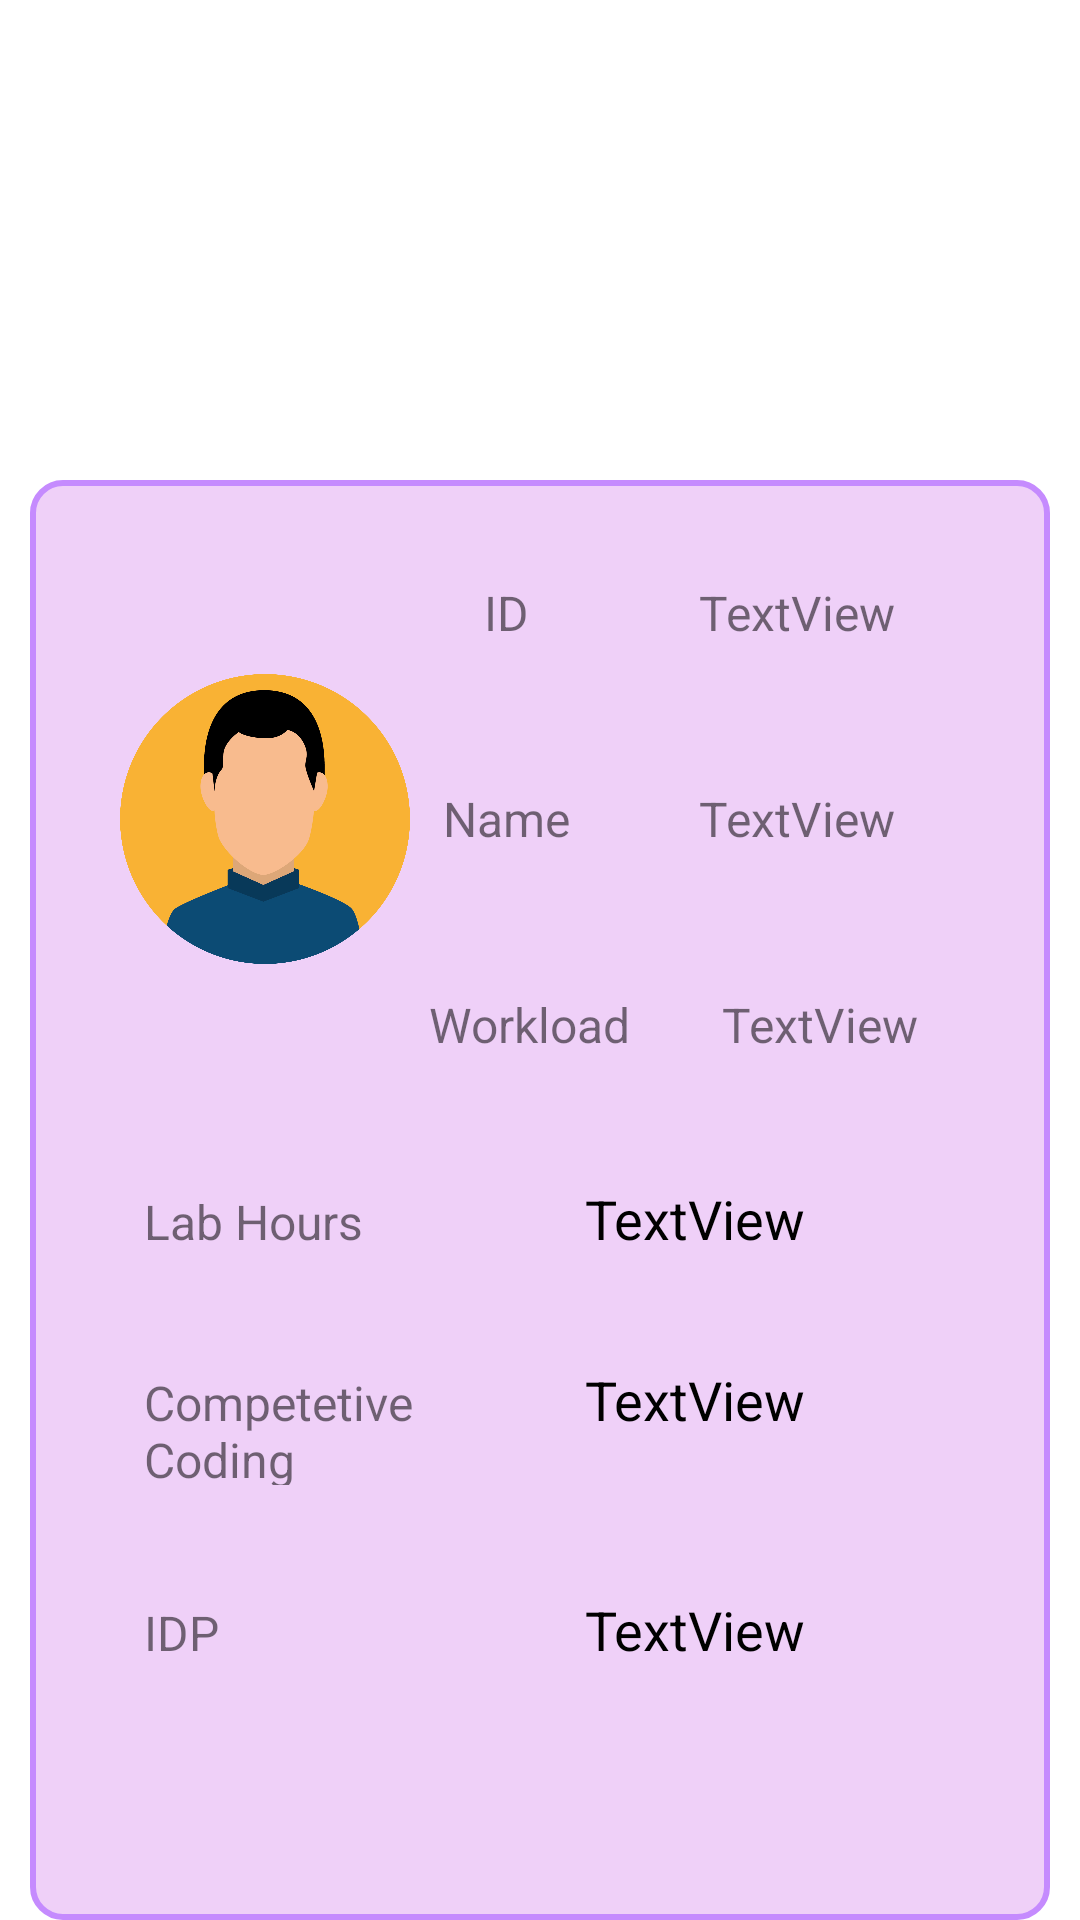

Named icons in this screenshot (1080 x 1920) and their centers, [x,y]:
profpic: [265,819]
